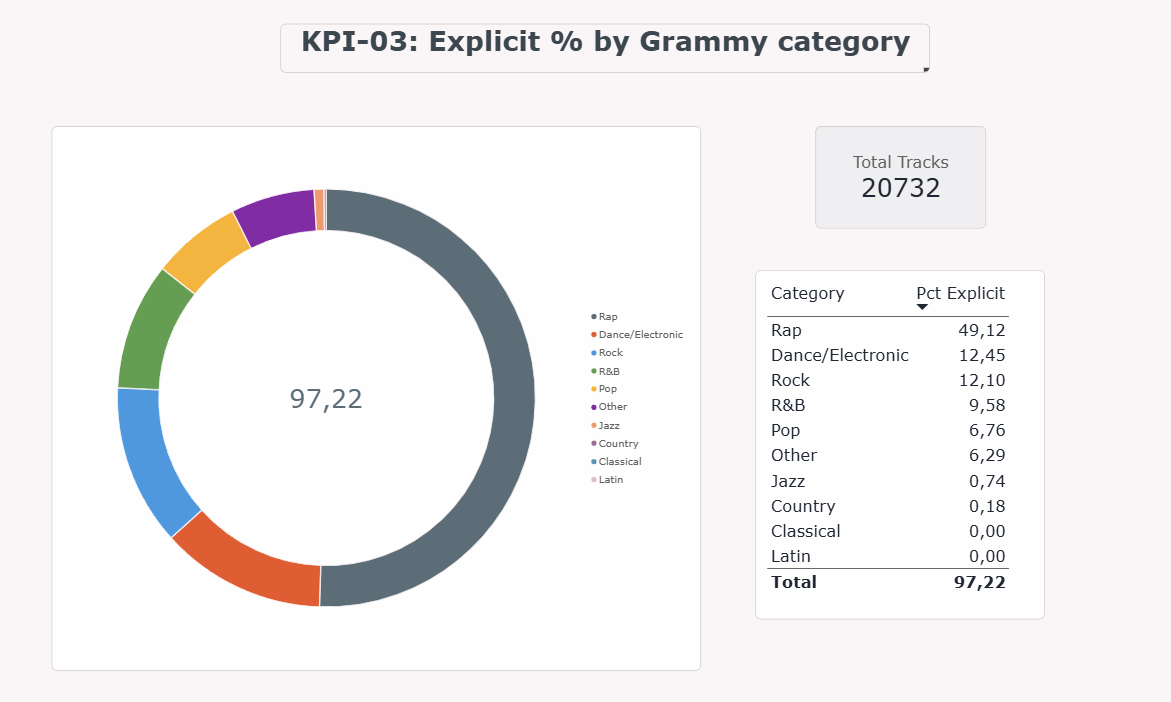

What the dashboard file says about the page in this screenshot:
{"tool":"powerbi","page":{"name":"KPI-03: Explicit % by Grammy category","canvas":[1920,1080],"ordinal":2},"visuals":[{"type":"textbox","title":"KPI-03: Explicit % by Grammy category","box":[586,63.7,956.1,72],"z":0},{"type":"tableEx","fields":{"Values":["Consulta1.category_group","Sum(Consulta1.pct_explicit)"]},"box":[1285.1,427.7,425.6,514],"z":1000},{"type":"donutChart","fields":{"Category":["Consulta1.category_group"],"Y":["Sum(Consulta1.pct_explicit)"]},"box":[248.8,215.9,956.1,801.9],"z":2000},{"type":"cardVisual","fields":{"Data":["Sum(Consulta1.tracks)"]},"box":[1354.6,215.3,250.8,150.1],"z":3000}]}

Visuals, with their boxes on the page's 1920x1080 design canvas (x1, y1, x2, y2). These are canvas units, not pixel positions in the 1171x702 screenshot, which may show the page scaled, cropped or inside an application window:
"KPI-03: Explicit % by Grammy category" textbox: BBox(586, 64, 1542, 136)
tableEx - Consulta1.category_group x Sum(Consulta1.pct_explicit): BBox(1285, 428, 1711, 942)
donutChart - Consulta1.category_group x Sum(Consulta1.pct_explicit): BBox(249, 216, 1205, 1018)
cardVisual - Sum(Consulta1.tracks): BBox(1355, 215, 1605, 365)
